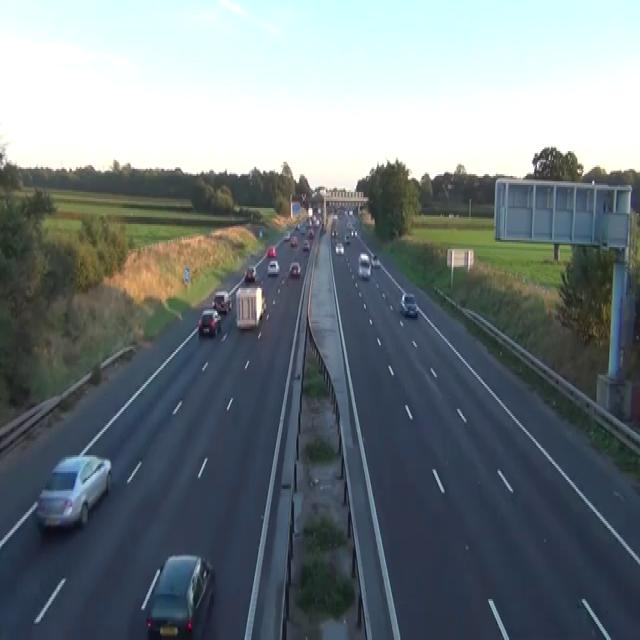Car: (35, 453, 112, 530), (144, 553, 213, 638), (198, 308, 221, 336), (212, 290, 232, 313), (400, 292, 418, 316), (289, 262, 301, 278), (244, 265, 256, 281), (267, 260, 279, 276), (371, 254, 380, 267), (335, 242, 344, 254), (302, 238, 310, 251), (261, 295, 266, 315), (267, 245, 276, 256), (320, 222, 326, 235), (283, 231, 290, 242), (290, 235, 297, 245), (307, 228, 314, 238), (331, 228, 338, 238), (344, 233, 350, 243), (313, 217, 319, 227), (299, 224, 305, 233), (351, 228, 357, 236), (307, 206, 312, 215), (348, 208, 353, 215), (258, 228, 262, 236), (295, 222, 299, 230), (333, 212, 337, 218)
Truck: (235, 284, 265, 329), (357, 253, 371, 279)
